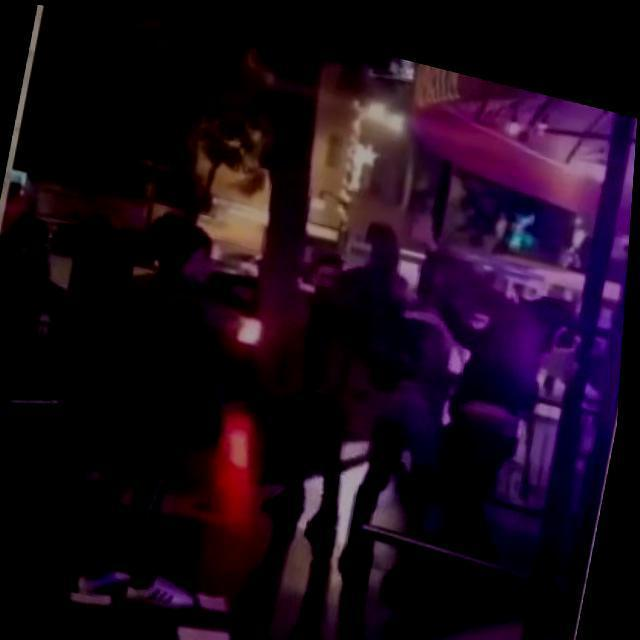fight: (337, 214, 588, 616)
